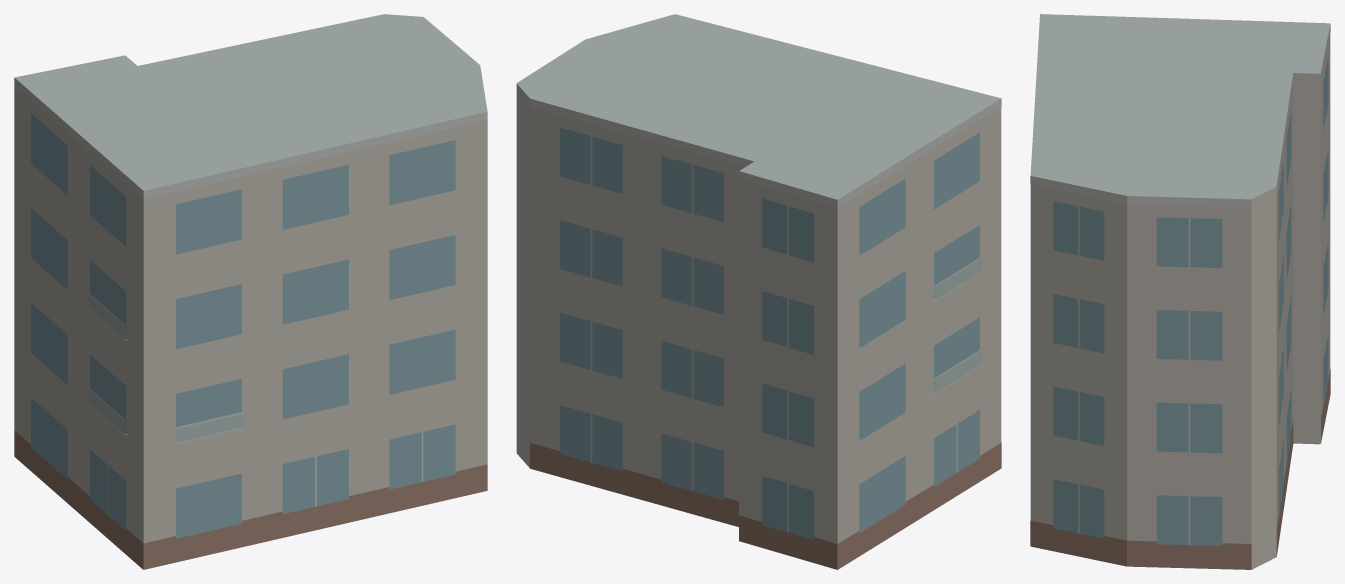
File: survey-upis-33037595.glb
The picture shows the model from 3 angles, left to right: view 1: azimuth 30°, elevation 25°; view 2: azimuth 150°, elevation 25°; view 3: azimuth 270°, elevation 25°; orthographic projection. The views are drawn at different scales.
Visible parts, largest first — view 1: survey-upis-33037595.tmp; view 2: survey-upis-33037595.tmp; view 3: survey-upis-33037595.tmp.
Part boxes in pixels (x1,y1,x2,y2): survey-upis-33037595.tmp: [14, 14, 487, 569]; survey-upis-33037595.tmp: [516, 14, 1001, 569]; survey-upis-33037595.tmp: [1030, 14, 1330, 569].
Bounding box in the file's own units: 11.7 × 10.9 × 8.01.
